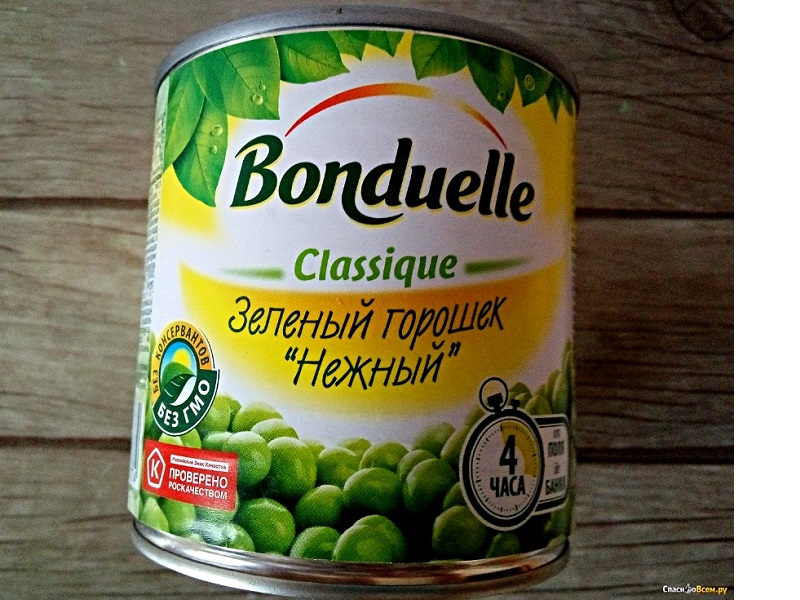peas: (97, 9, 595, 598)
